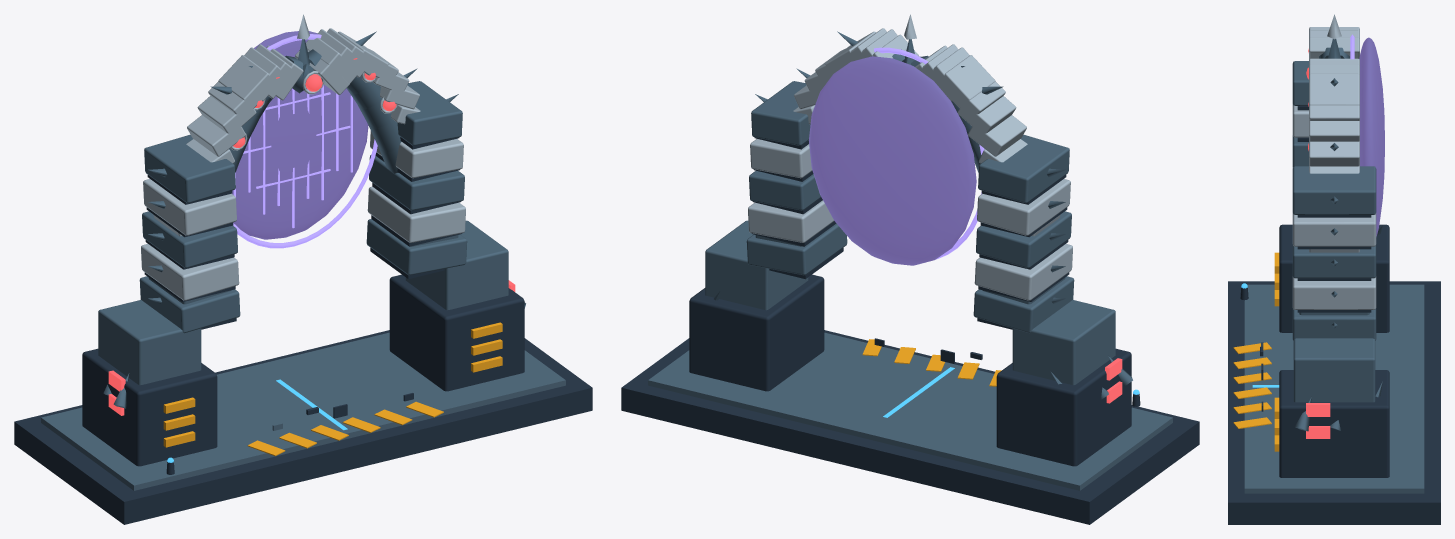
Rendered from enemy_spawn_gate.glb.
The picture shows the model from 3 angles, left to right: view 1: azimuth 30°, elevation 25°; view 2: azimuth 150°, elevation 25°; view 3: azimuth 270°, elevation 25°; orthographic projection. The views are drawn at different scales.
Visible parts, largest first — view 1: EnemySpawnGate, PlinthL, Membrane, LegL, PlinthR, Arch, LegR, Chevrons; view 2: EnemySpawnGate, Membrane, PlinthL, LegL, PlinthR, LegR, Arch, Chevrons; view 3: EnemySpawnGate, PlinthR, LegR, Arch, Membrane, PlinthL, LegL, Chevrons.
Part boxes in pixels (x1,y1,x2,y2): EnemySpawnGate: [14, 330, 592, 524]; PlinthL: [82, 300, 217, 466]; Membrane: [232, 31, 377, 248]; LegL: [139, 134, 240, 333]; PlinthR: [389, 220, 525, 391]; Arch: [153, 14, 420, 236]; LegR: [366, 81, 467, 279]; Chevrons: [247, 401, 443, 456]; EnemySpawnGate: [621, 330, 1199, 524]; Membrane: [808, 47, 984, 265]; PlinthL: [996, 300, 1132, 466]; LegL: [973, 134, 1074, 333]; PlinthR: [689, 220, 824, 391]; LegR: [746, 81, 847, 279]; Arch: [793, 14, 1060, 236]; Chevrons: [862, 339, 1001, 386]; EnemySpawnGate: [1228, 281, 1440, 524]; PlinthR: [1274, 338, 1389, 477]; LegR: [1292, 166, 1376, 340]; Arch: [1309, 14, 1359, 252]; Membrane: [1350, 34, 1384, 236]; PlinthL: [1274, 224, 1389, 332]; LegL: [1292, 61, 1308, 168]; Chevrons: [1233, 342, 1271, 428].
Size of the model in its own units: 6.16 by 5.2 by 2.5.
